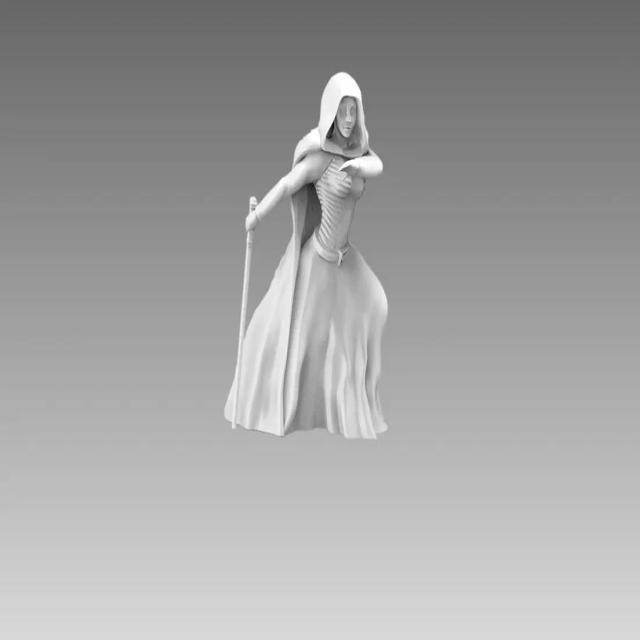Without deffect: (208, 37, 410, 446)
